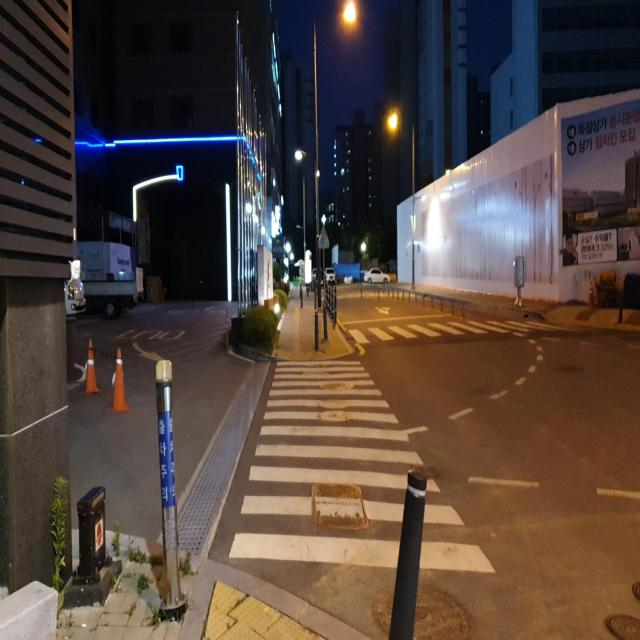횡단보도: (226, 357, 498, 577), (348, 316, 558, 351)
